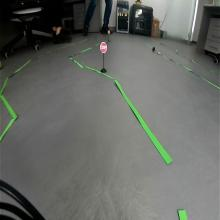stop: (100, 42, 108, 54)
